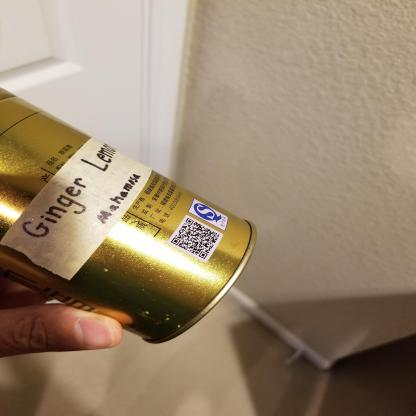qr: (167, 217, 223, 263)
